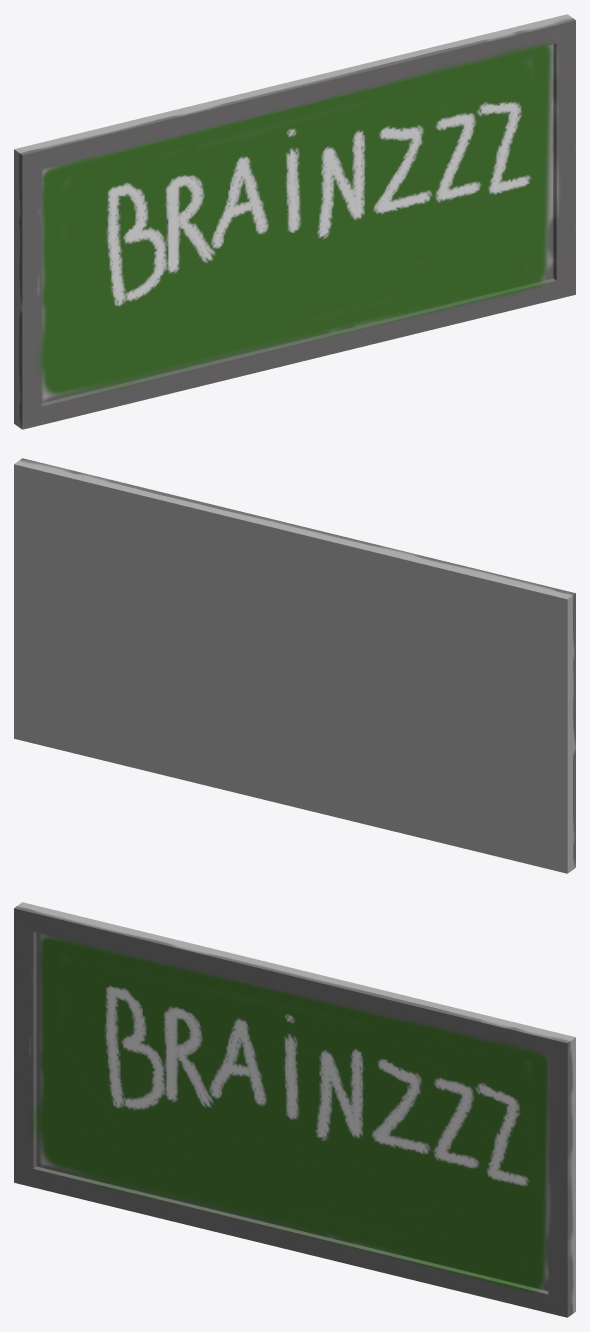
Rendered from Schoolbord.fbx.
3 views of the same model, one above another, from view 1: azimuth 30°, elevation 25°; view 2: azimuth 150°, elevation 25°; view 3: azimuth 330°, elevation 25° (orthographic).
Parts seen in each view (by area): view 1: pCube1; view 2: pCube1; view 3: pCube1.
Part boxes in pixels (x1,y1,x2,y2): pCube1: (14,14,575,429); pCube1: (14,458,575,873); pCube1: (14,902,575,1317).
Size of the model in its own units: 1.9 by 0.9 by 0.05.
1 material, 1 textured.
